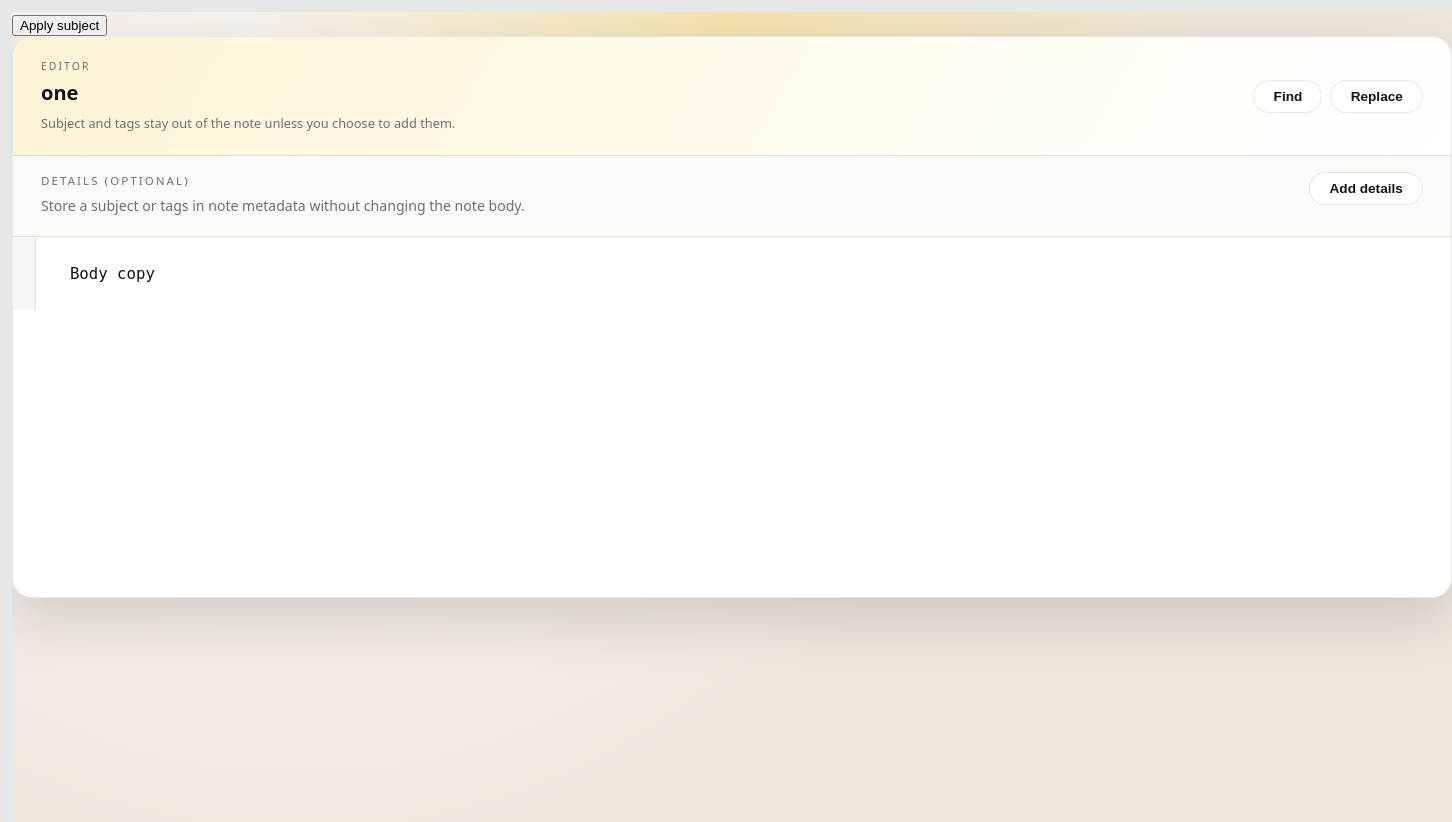
Test: NoteEditor frontmatter › can expand and collapse the optional frontmatter section
Click the button "Add details". click: x=1366, y=189
box: [1309,172,1423,205]
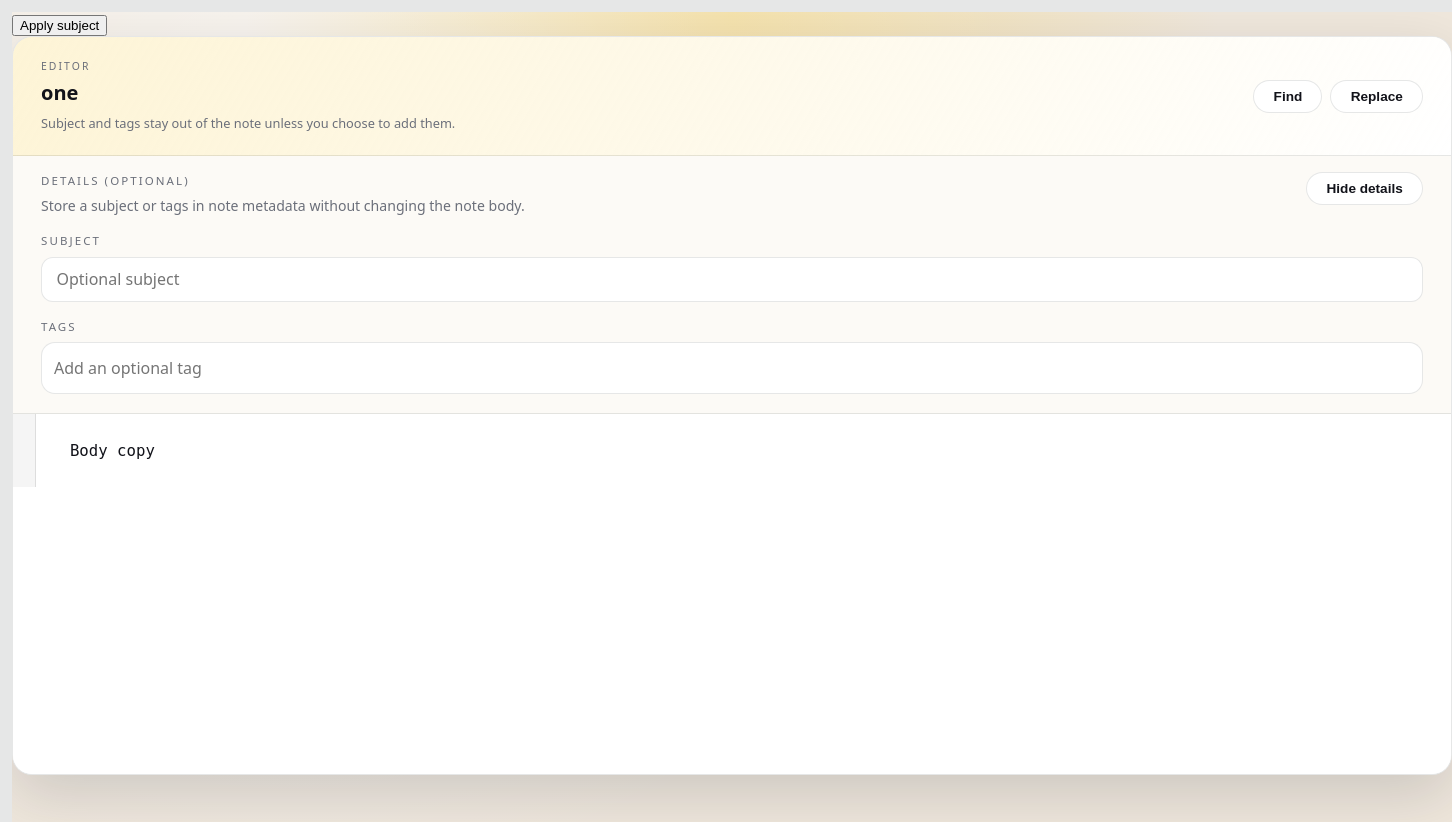
Result: the button "Hide details" is expanded
Result: the field with placeholder "Optional subject" is shown at [41,257,1423,302]
Click the button "Hide details". click: x=1365, y=189
box: [1306,172,1423,205]
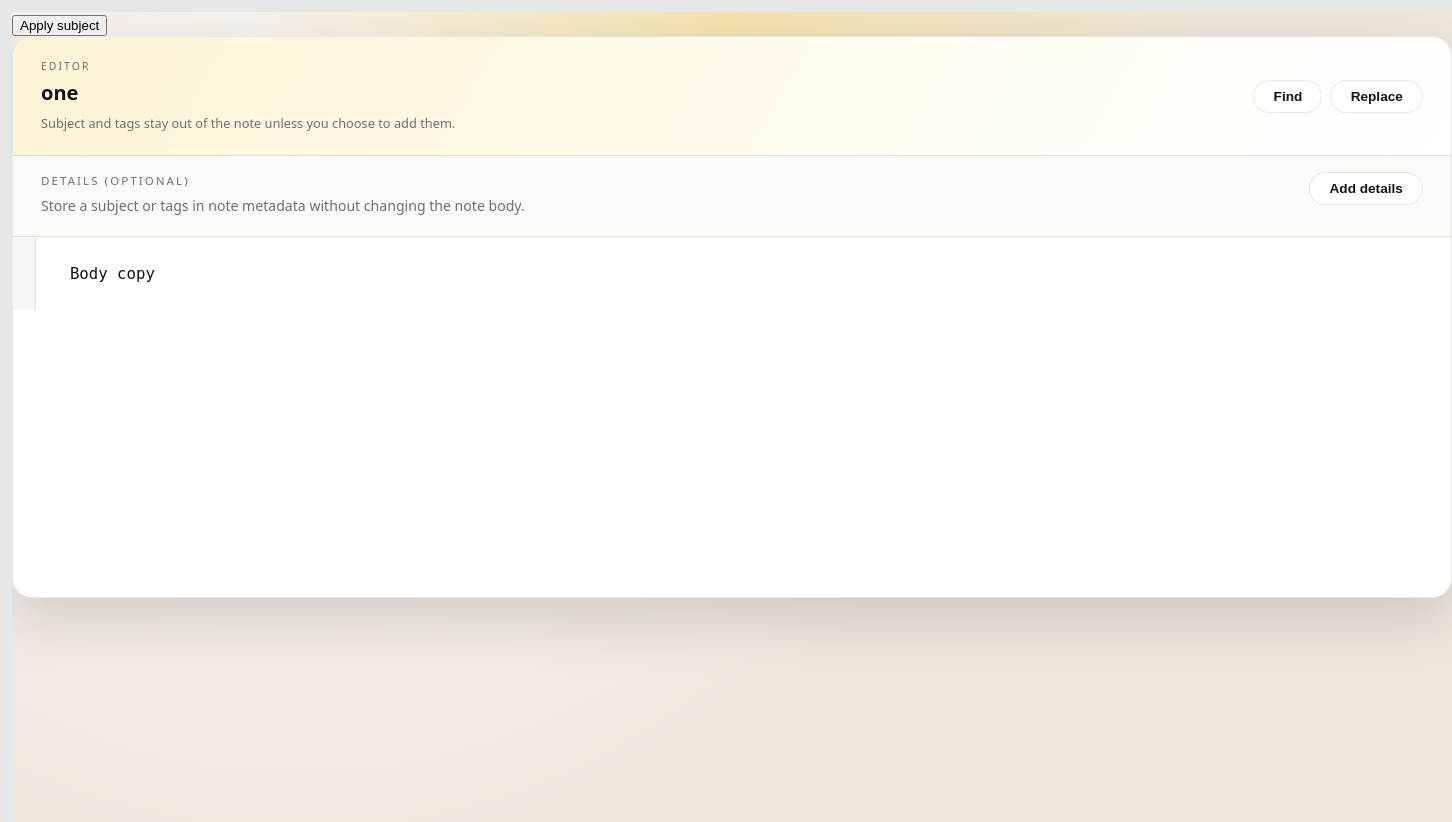
Expected: the element with placeholder "Optional subject" is not shown
Result: the button "Add details" is collapsed at [1309,172,1423,205]
